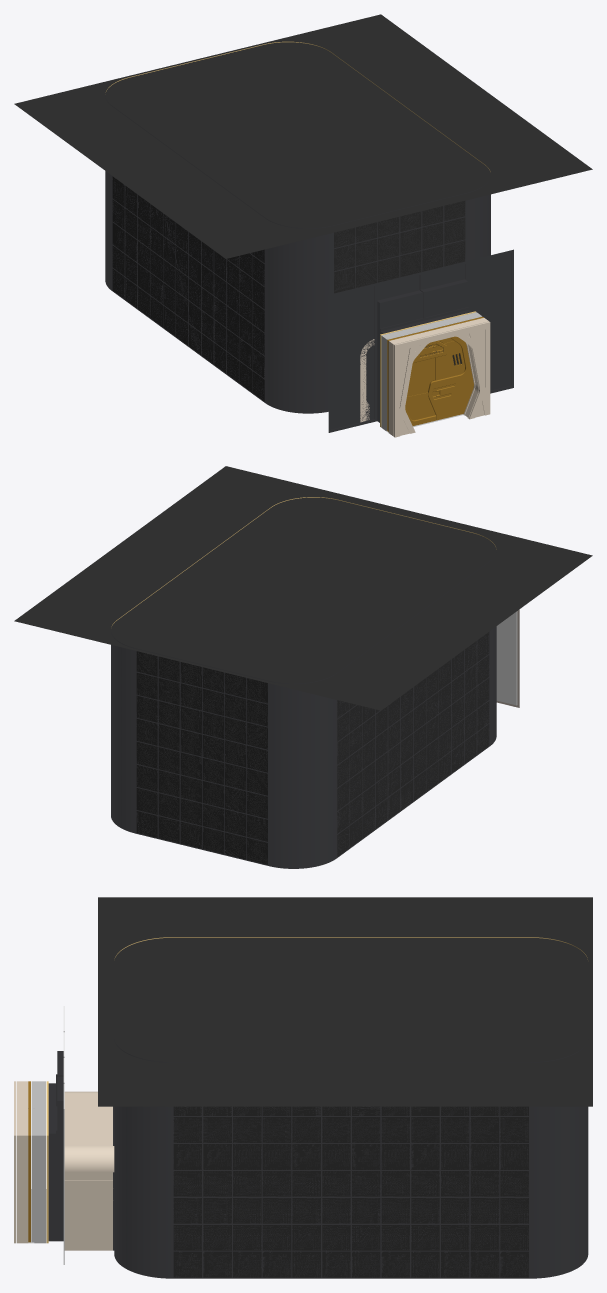
File: holodeck-shell.glb
3 views of the same model, one above another, from view 1: azimuth 30°, elevation 25°; view 2: azimuth 150°, elevation 25°; view 3: azimuth 270°, elevation 25° (orthographic). The views are drawn at different scales.
Parts seen in each view (by area): view 1: Ceiling, ID2768, ID565, ID581, archway_half, door_surround, ID137, ID321, ID541, ID523, cargo_arch, ID111 (+3 smaller); view 2: Ceiling, ID2768, ID565, ID3636, ID3668, ID3780, ID3644, ID3724, ID3812, ID3652, ID3700, ID3716 (+5 smaller); view 3: Ceiling, ID2768, ID634, door_surround, cargo_arch, ID111, ID5236, ID5452, ID5188, ID5300, ID5396, ID5444 (+91 smaller).
Boxes of the visible parts, box(x1,y1,x2,y2) form: Ceiling: box(14, 14, 592, 258); ID2768: box(105, 41, 490, 413); ID565: box(331, 286, 374, 429); ID581: box(467, 252, 511, 390); archway_half: box(394, 321, 490, 437); door_surround: box(328, 249, 513, 432); ID137: box(428, 317, 483, 420); ID321: box(387, 328, 446, 431); ID541: box(377, 275, 423, 328); ID523: box(422, 264, 468, 317); cargo_arch: box(388, 318, 488, 436); ID111: box(381, 312, 481, 431); Ceiling: box(14, 466, 592, 710); ID2768: box(111, 497, 496, 868); ID565: box(496, 611, 517, 705); ID3636: box(269, 774, 292, 798); ID3668: box(294, 751, 317, 775); ID3780: box(269, 797, 292, 821); ID3644: box(294, 774, 317, 798); ID3724: box(294, 728, 317, 752); ID3812: box(294, 797, 317, 821); ID3652: box(269, 705, 292, 729); ID3700: box(269, 751, 292, 775); ID3716: box(294, 705, 317, 729); Ceiling: box(98, 897, 592, 1106); ID2768: box(114, 937, 588, 1278); ID634: box(64, 1091, 114, 1250); door_surround: box(48, 1074, 63, 1241); cargo_arch: box(16, 1081, 28, 1243); ID111: box(34, 1081, 45, 1243); ID5236: box(470, 1251, 499, 1277); ID5452: box(262, 1251, 291, 1277); ID5188: box(500, 1251, 528, 1277); ID5300: box(411, 1251, 439, 1277); ID5396: box(322, 1251, 350, 1277); ID5444: box(292, 1251, 320, 1277).
Size of what is drawn, in the model's own units: 14 by 6.76 by 16.37.
